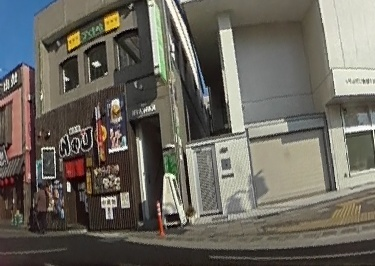person: (33, 180, 47, 231)
